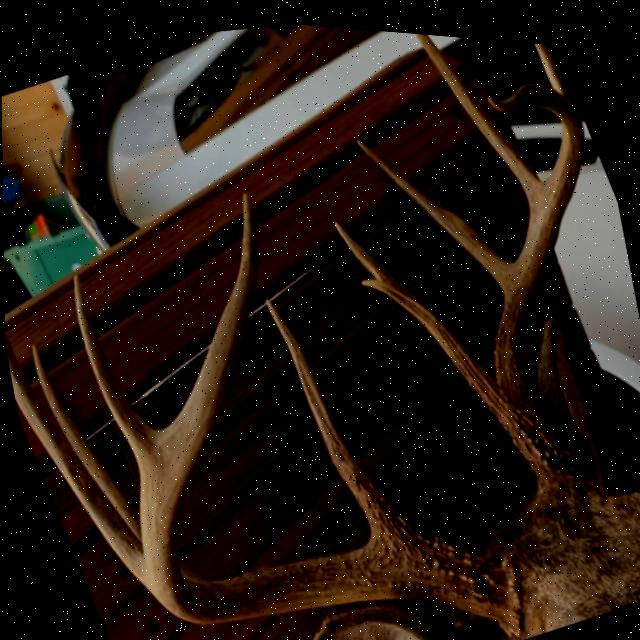E1: (359, 271, 387, 287)
E3: (533, 34, 572, 93)
L-F: (488, 71, 584, 481)
L-G1: (332, 213, 505, 419)
L-G2: (354, 131, 510, 279)
L-G3: (414, 27, 541, 192)
R-F: (136, 188, 518, 625)
R-G1: (263, 291, 411, 535)
R-G3: (4, 333, 150, 592)
R-G4: (72, 271, 153, 458)
